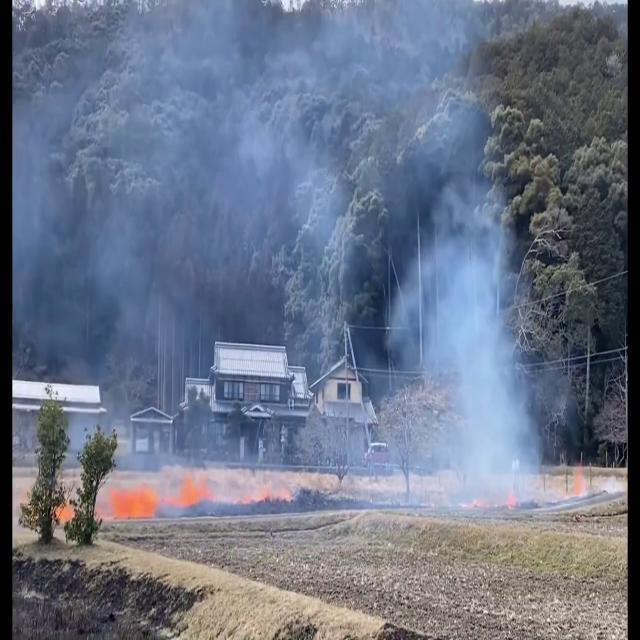Fire: (106, 466, 210, 526)
Smoke: (14, 2, 354, 446), (377, 6, 550, 526)
